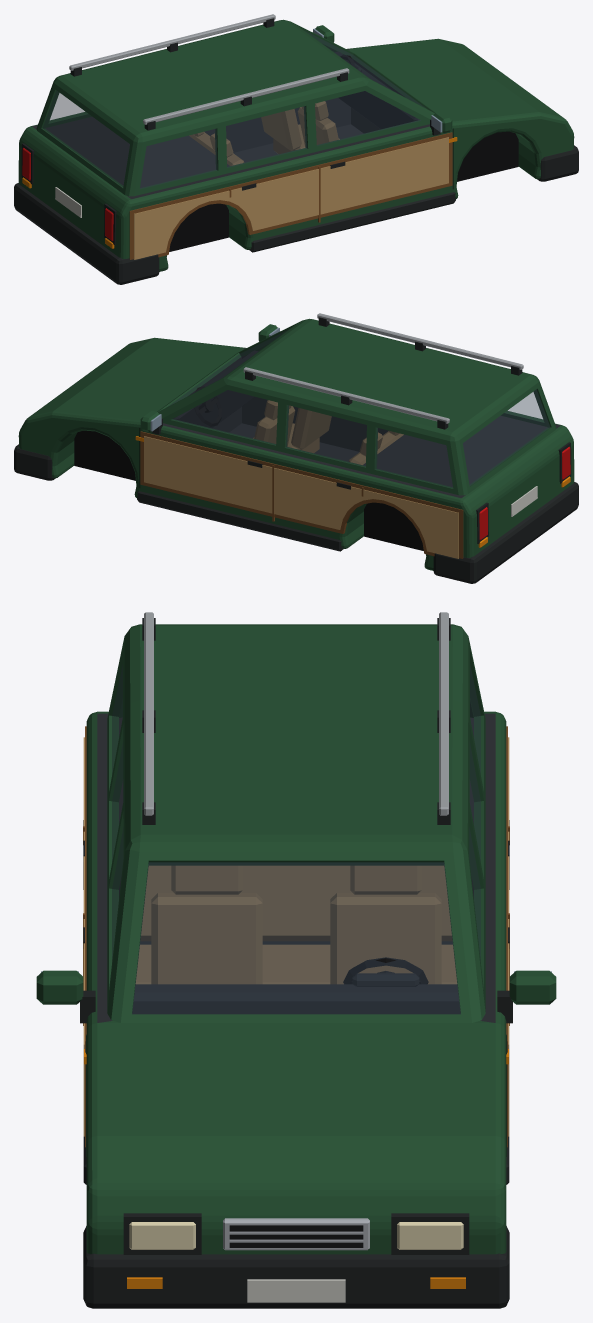
The model's file is wagon.glb.
The picture shows the model from 3 angles, top to bottom: view 1: azimuth 30°, elevation 25°; view 2: azimuth 150°, elevation 25°; view 3: azimuth 270°, elevation 25°; orthographic projection. The views are drawn at different scales.
Visible parts, largest first — view 1: Body, Glass, Interior, Details, TailLights; view 2: Body, Glass, Interior, Details, TailLights; view 3: Body, Glass, Interior, Details, HeadLights.
Part boxes in pixels (box(x1,y1,x2,y2)): Body: box(14, 19, 578, 284); Glass: box(43, 32, 424, 188); Interior: box(189, 51, 419, 165); Details: box(69, 14, 452, 135); TailLights: box(22, 147, 113, 241); Body: box(14, 318, 578, 583); Glass: box(168, 331, 549, 487); Interior: box(173, 350, 403, 464); Details: box(140, 313, 523, 434); TailLights: box(479, 446, 570, 540); Body: box(83, 624, 509, 1308); Glass: box(112, 665, 480, 1013); Interior: box(132, 865, 460, 1014); Details: box(36, 612, 556, 1023); HeadLights: box(129, 1222, 463, 1249).
Size of the model in its own units: 4.81 by 1.46 by 2.33.
